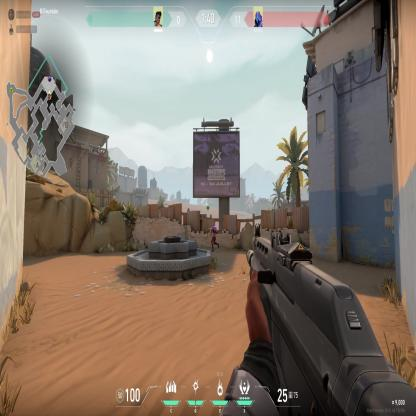enemy: (209, 221, 220, 252)
